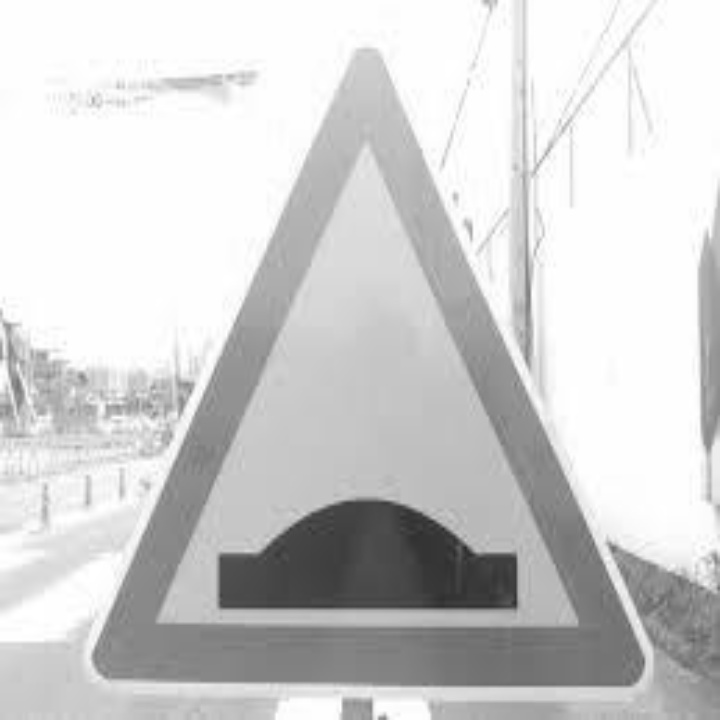bump: (189, 476, 552, 640)
